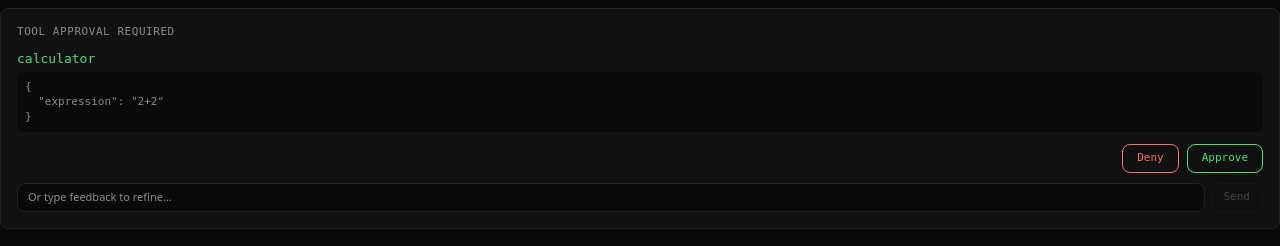
ApprovalCard › disables all controls after Deny is clicked
This screenshot has width=1280, height=246.
Click the button "Deny" at (1150, 159), box [1122,144,1179,173]
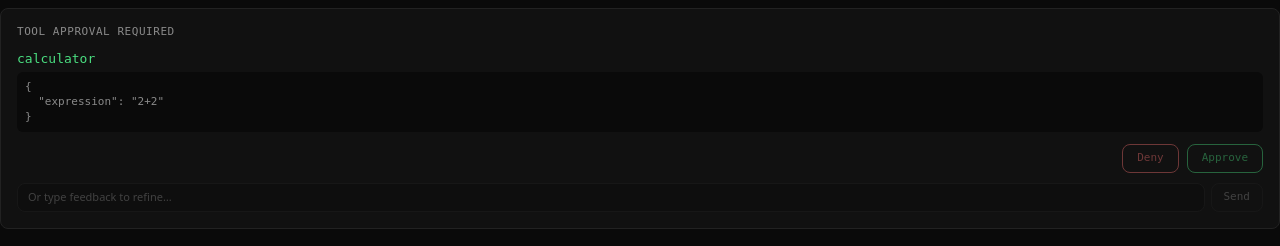
Result: the button "Approve" is disabled at [1187,144,1263,173]
Result: the button "Deny" is disabled at [1122,144,1179,173]
